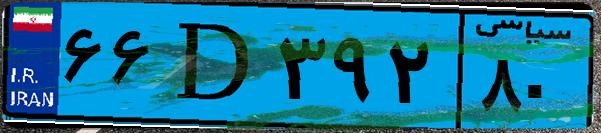0: (525, 38, 570, 115)
2: (385, 28, 445, 110)
3: (270, 28, 330, 110)
6: (57, 26, 110, 100), (110, 28, 158, 98)
8: (475, 38, 525, 113)
9: (330, 28, 385, 110)
D: (158, 12, 270, 120)
